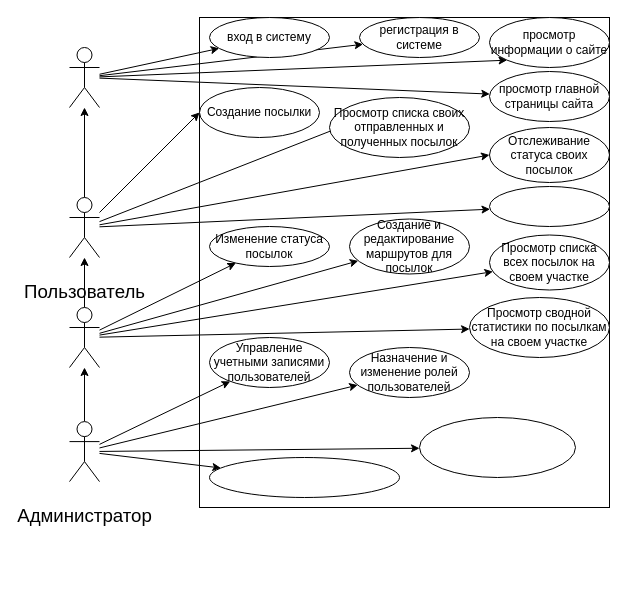
The diagram is 627 pixels wide and 606 high, and some of its shapes have lost their labels. The box of each missing label's shape, as (x1, y1, x2, y2) in pixels:
Гость: (68, 46, 100, 108)
Менеджер: (68, 306, 100, 368)
Просмотр и анализ сводной статистики по всем посылкам и сотрудникам: (418, 416, 576, 478)
редактирование профиля: (488, 186, 610, 226)
Управление объектами "Location" на уровне организации: (208, 456, 400, 498)
